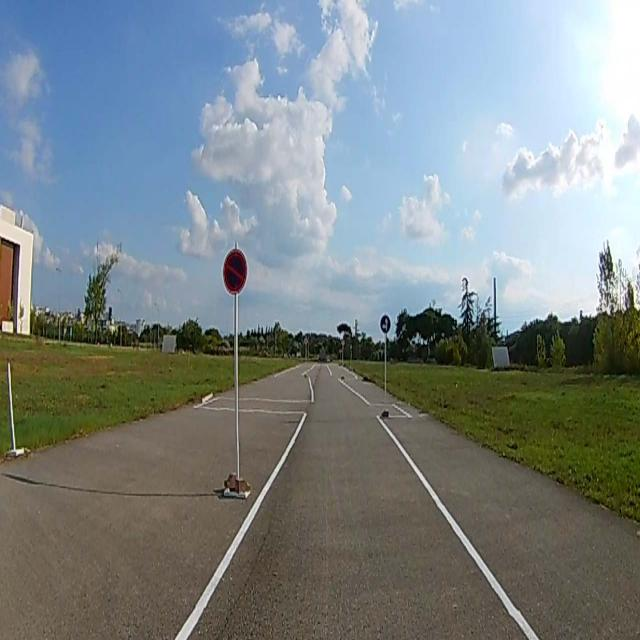parkyasak: (222, 247, 246, 293)
